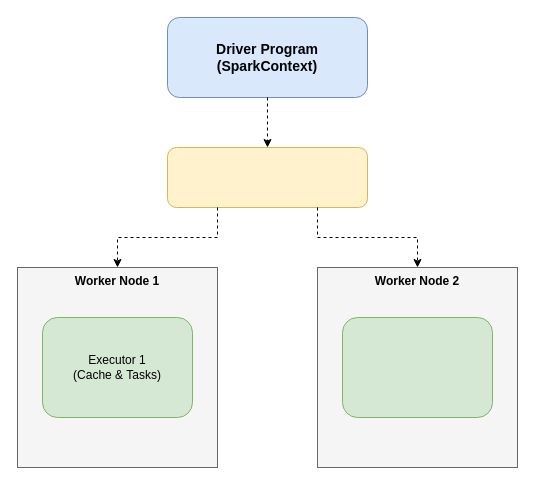
This 535x485 diagram has some shape labels left out. The box of each missing label's shape, as (x1, y1, x2, y2) in pixels:
Cluster Manager (YARN / K8s): (166, 146, 368, 208)
Executor 2 (Cache & Tasks): (342, 316, 492, 418)
